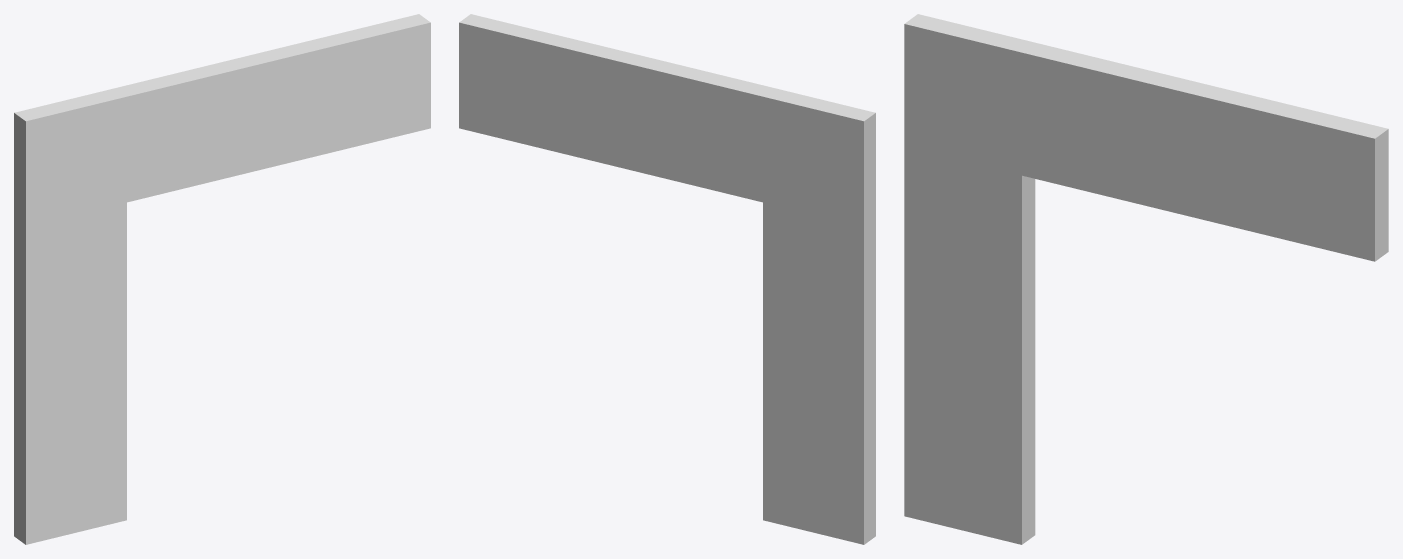
Rendered from wall_005.fbx.
3 renders of one model, left to right at view 1: azimuth 30°, elevation 25°; view 2: azimuth 150°, elevation 25°; view 3: azimuth 330°, elevation 25°, orthographic. The views are drawn at different scales.
Parts seen in each view (by area): view 1: wall_005; view 2: wall_005; view 3: wall_005.
Part boxes in pixels (<box>): wall_005: <box>14,14,430,544</box>; wall_005: <box>459,14,875,544</box>; wall_005: <box>904,14,1388,544</box>.
Size of the model in its own units: 400 by 20 by 400.
